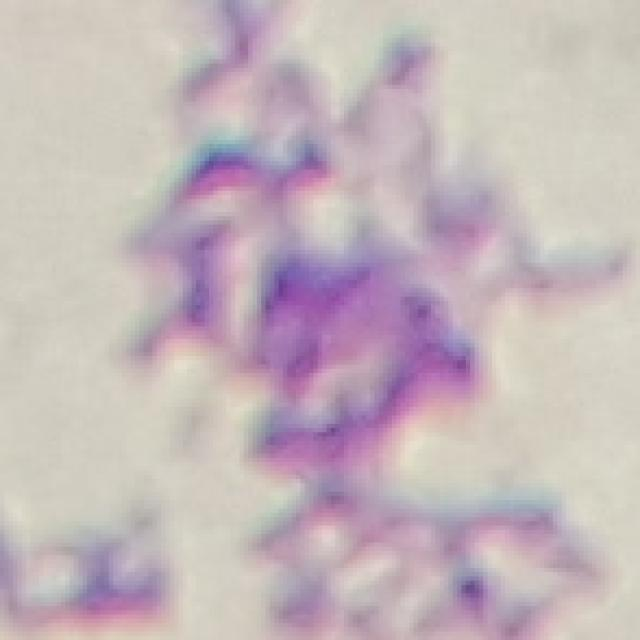non-sperm: (137, 132, 485, 480)
